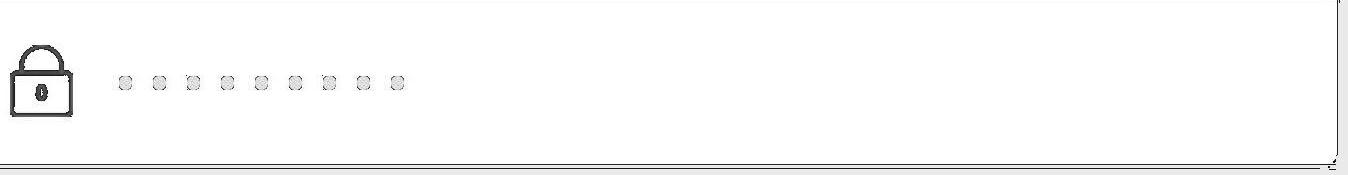EditText: (1, 1, 1347, 174)
